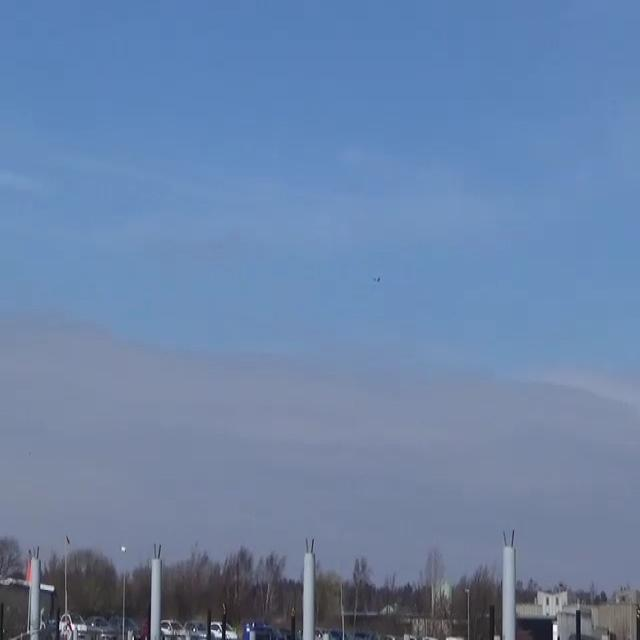bird: (372, 274, 384, 285)
